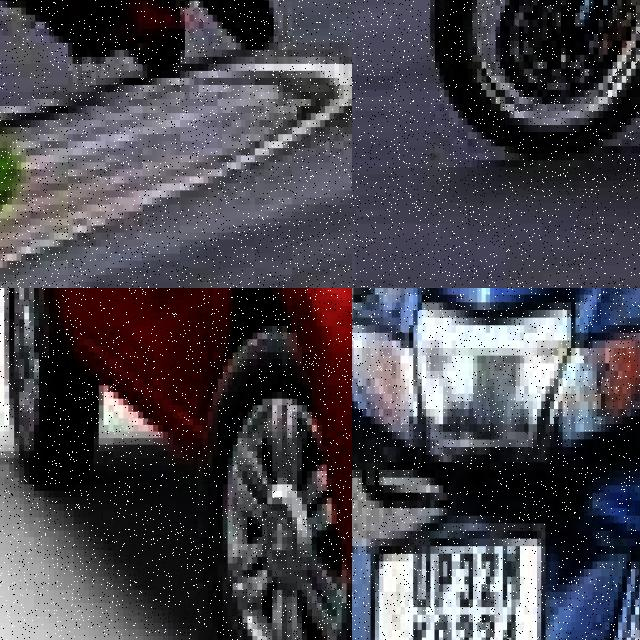bike: (352, 288, 640, 640), (0, 0, 283, 148), (421, 0, 640, 181)
car: (0, 288, 352, 640)
